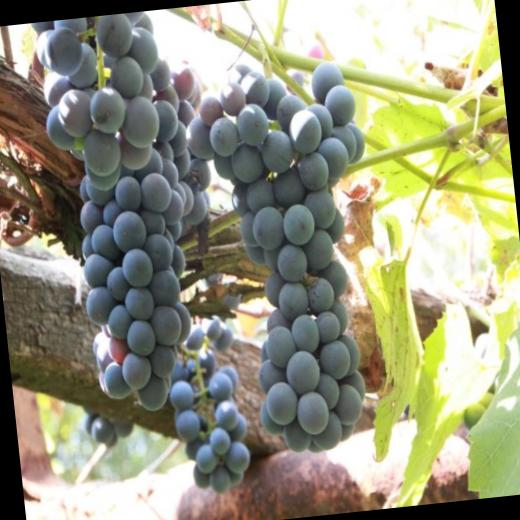Orange: (32, 0, 399, 509), (179, 52, 397, 460), (34, 6, 235, 418), (158, 269, 254, 499), (84, 399, 134, 450)
